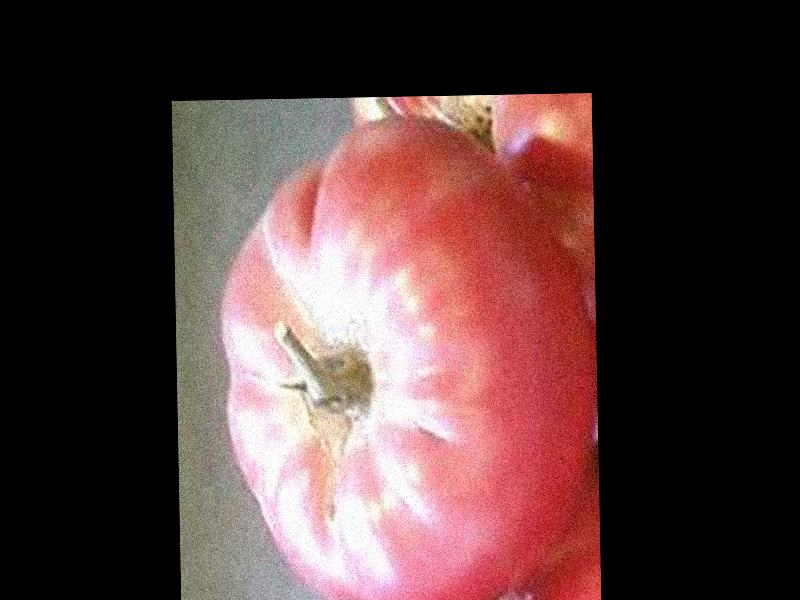Tomato: (219, 110, 599, 600)
